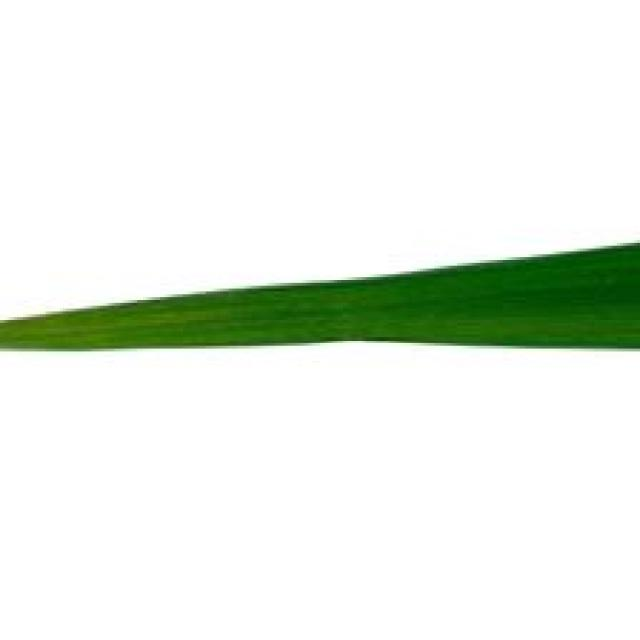Rice___Healthy_Rice_Plant: (0, 242, 637, 353)
